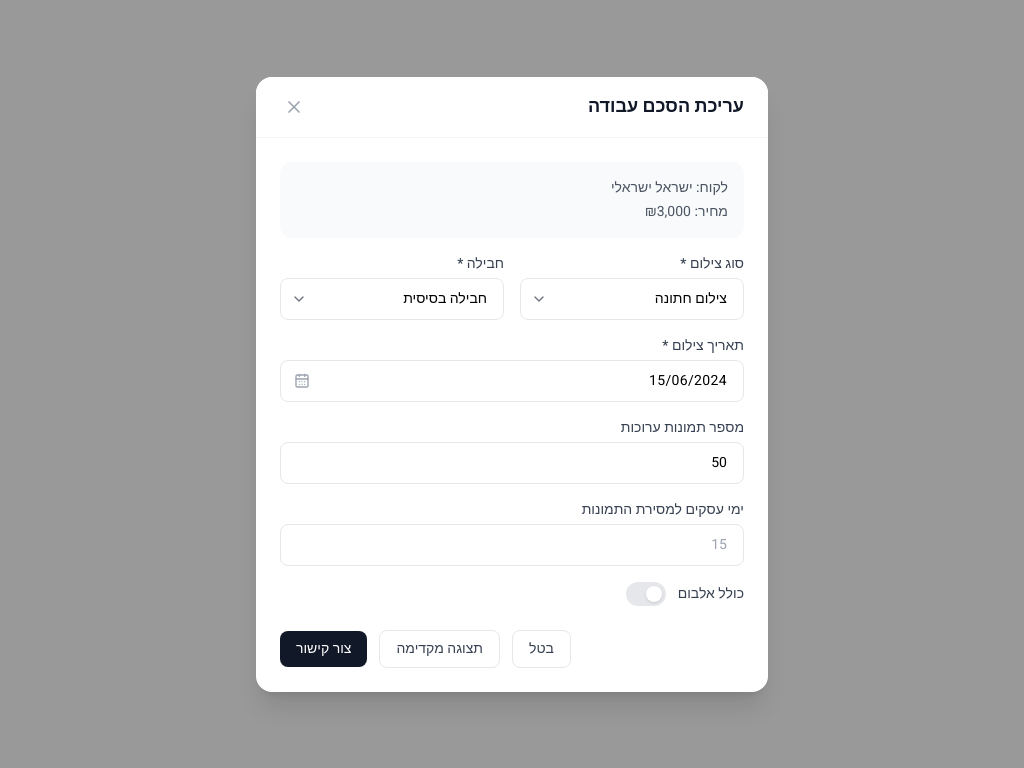
AgreementEditorModal › after generation, shows success state with link URL
The image size is (1024, 768).
What coordinates should you click on to do the following:
click the button "צור קישור"
I would click on:
 (324, 648)
Its box is [280,630,368,666].
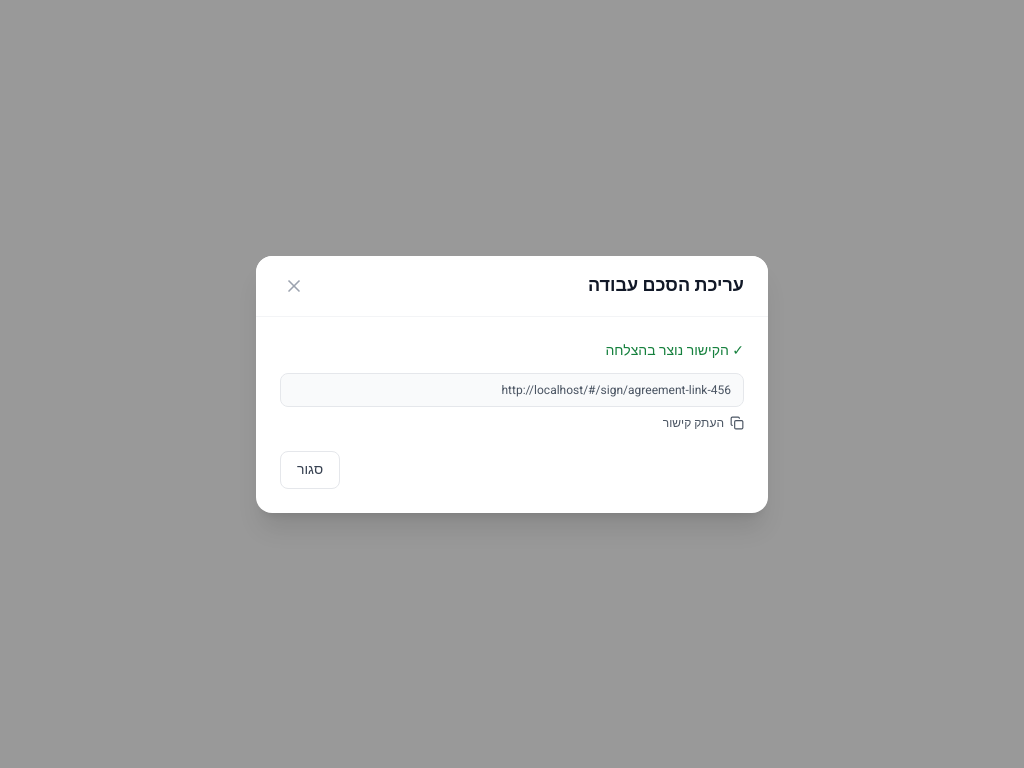
Check: the text "✓ הקישור נוצר בהצלחה" is shown, box [605,340,744,360]
Check: the field showing "agreement-link-456" is shown, box [280,372,744,406]
